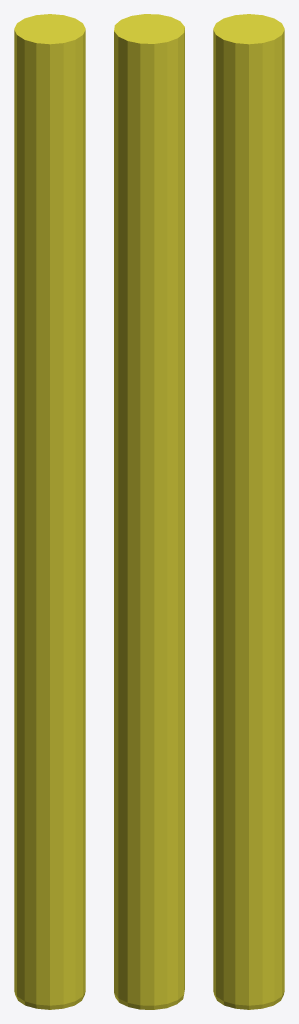
Rendered from WireStr8.fbx.
3 renders of one model, left to right at view 1: azimuth 90°, elevation 25°; view 2: azimuth 210°, elevation 25°; view 3: azimuth 270°, elevation 25°, orthographic.
Visible parts, largest first — view 1: WireStraight; view 2: WireStraight; view 3: WireStraight.
Part boxes in pixels (box(x1,y1,x2,y2)): WireStraight: box(14, 14, 85, 1009); WireStraight: box(114, 14, 184, 1009); WireStraight: box(213, 14, 284, 1009).
Size of the model in its own units: 0.5775 by 8.59 by 0.5775.
